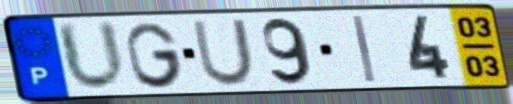4: (405, 13, 454, 82)
9: (259, 15, 316, 87)
G: (123, 20, 187, 90)
I: (349, 13, 379, 85)
U: (53, 18, 131, 94), (189, 17, 257, 88)
